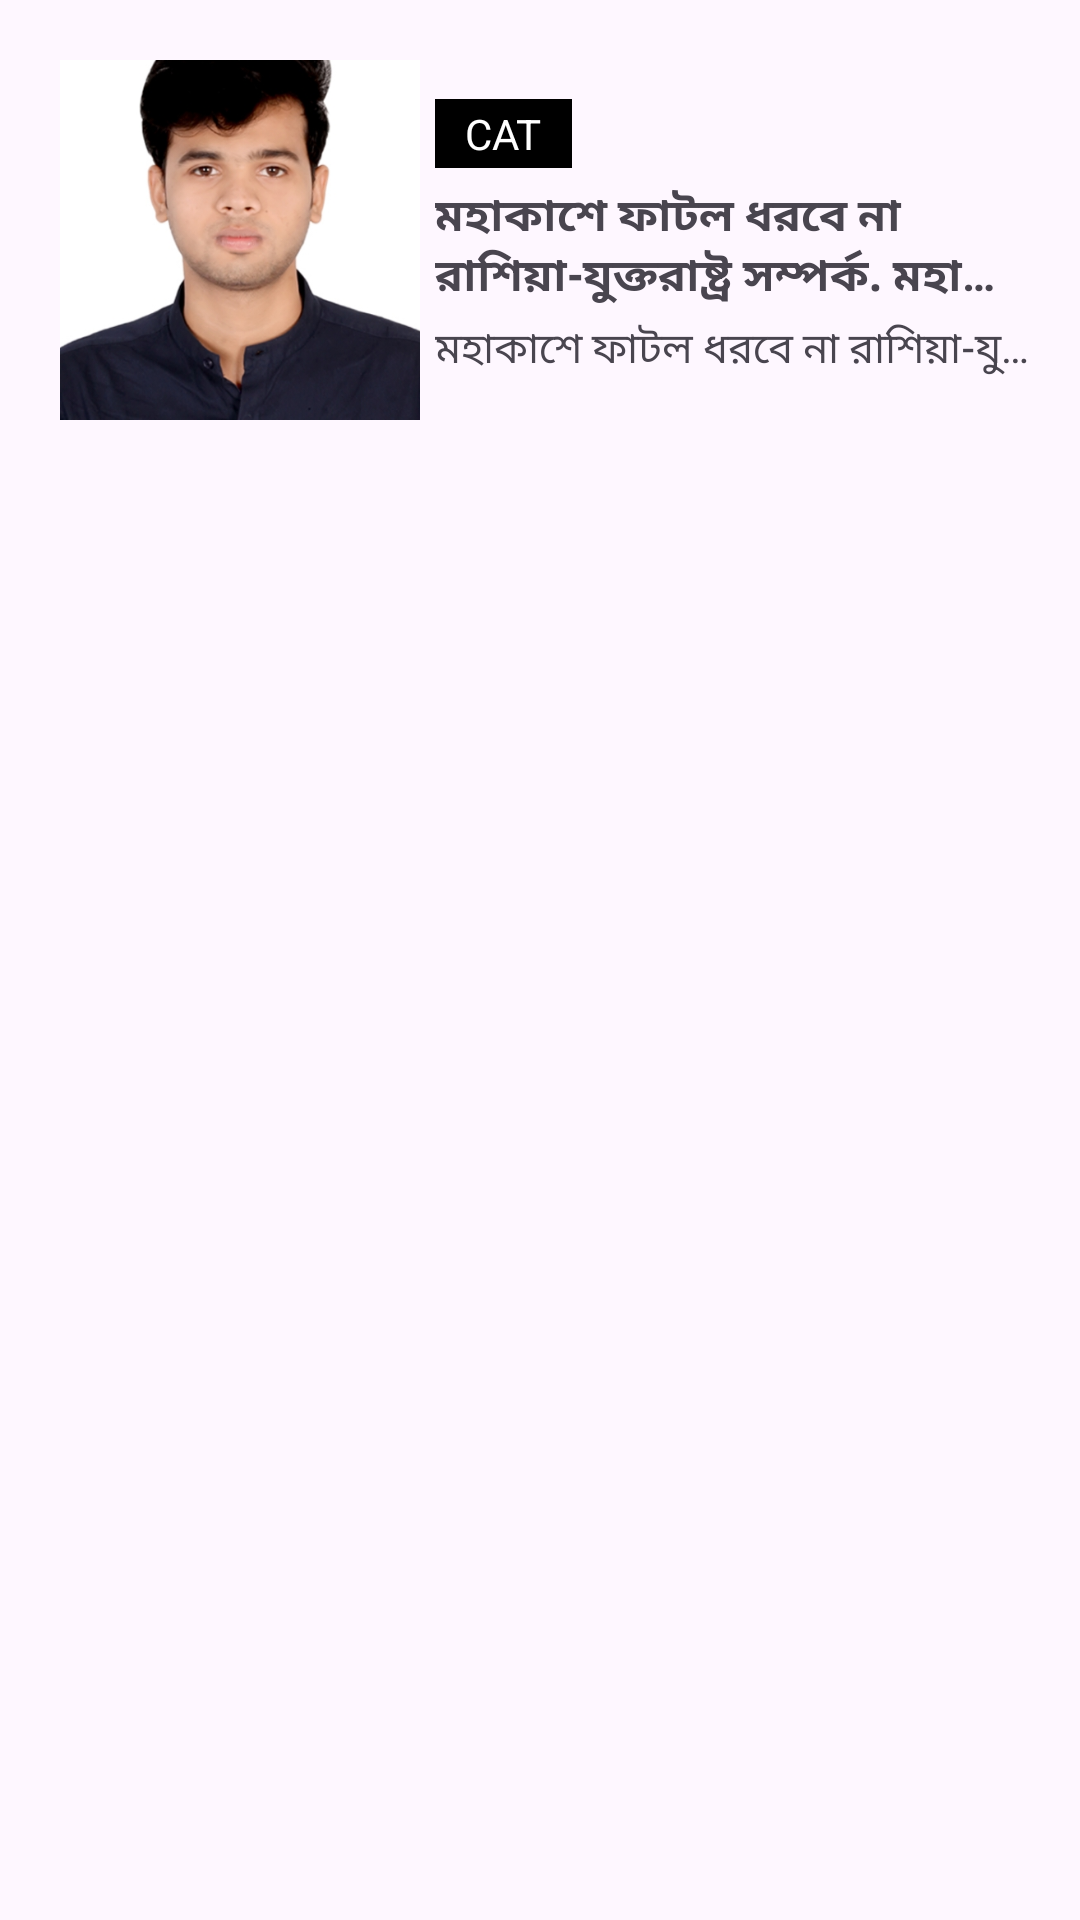

Where icons sit on this 1080×1920 app screen, as region(x1, y1, x2, y2):
mypic: region(60, 60, 420, 420)
